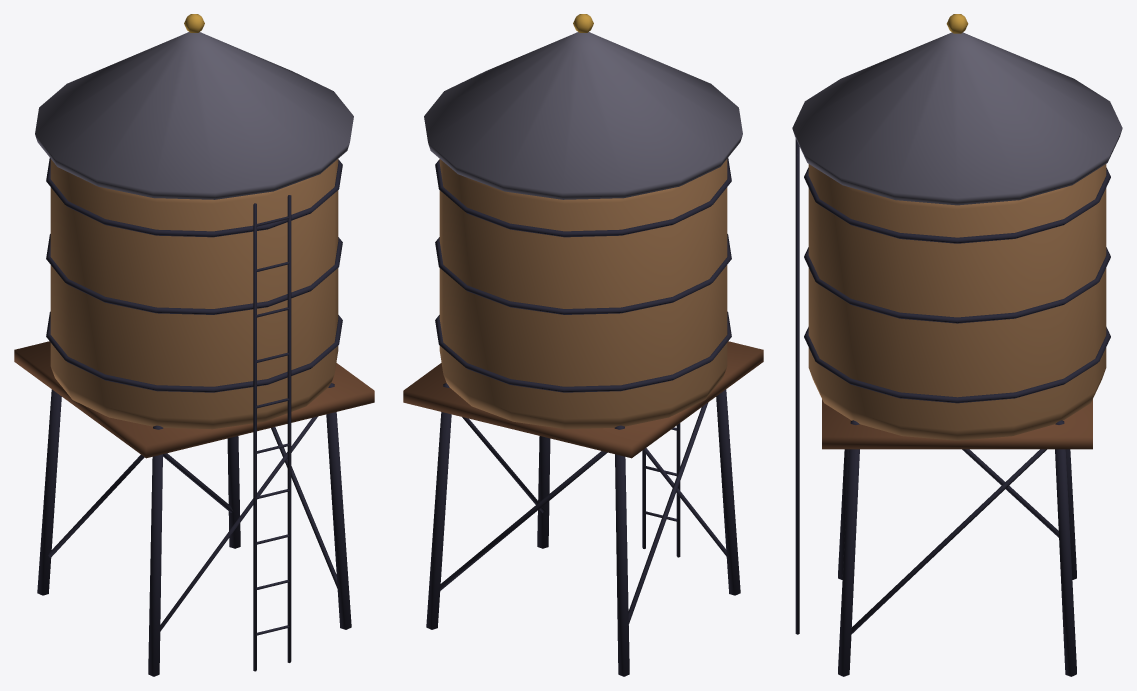
File: water_tower.glb
3 renders of one model, left to right at view 1: azimuth 30°, elevation 25°; view 2: azimuth 150°, elevation 25°; view 3: azimuth 270°, elevation 25°, orthographic. The views are drawn at different scales.
Parts seen in each view (by area): view 1: water_tower; view 2: water_tower; view 3: water_tower.
Part boxes in pixels (box(x1,y1,x2,y2)): water_tower: box(14, 14, 374, 676); water_tower: box(403, 14, 763, 676); water_tower: box(792, 14, 1122, 676).
Bounding box in the file's own units: 2.44 × 5.01 × 2.44.
